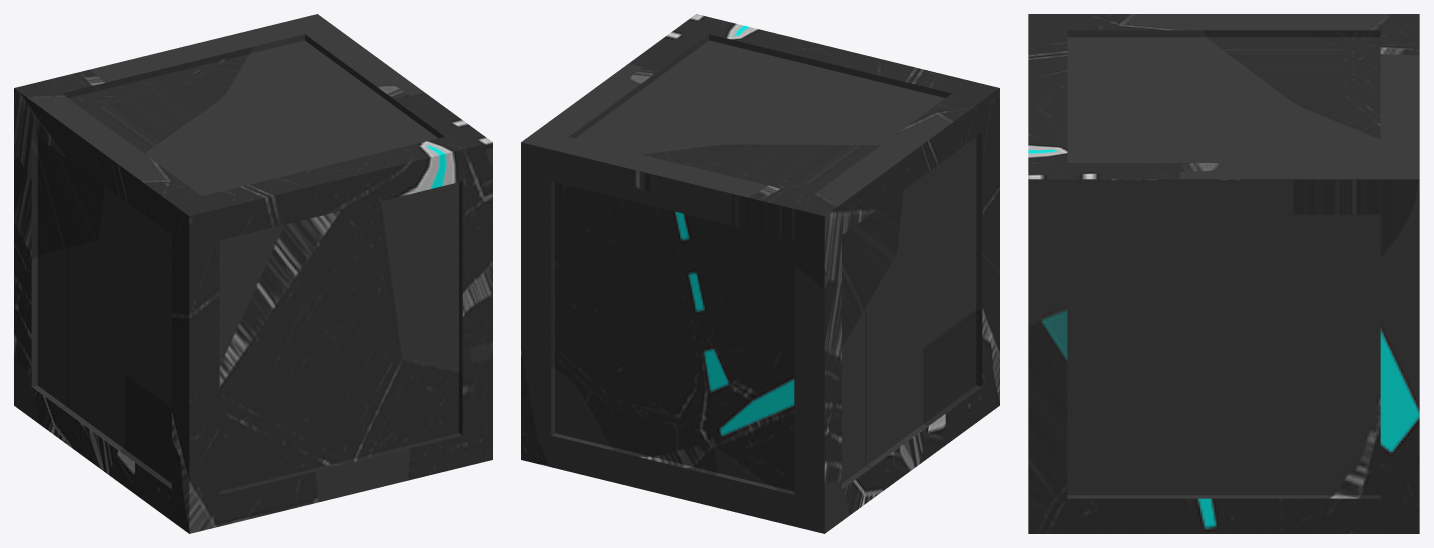
The model's file is Crate.fbx.
3 views of the same model, side by side, from view 1: azimuth 30°, elevation 25°; view 2: azimuth 150°, elevation 25°; view 3: azimuth 270°, elevation 25° (orthographic). The views are drawn at different scales.
Parts seen in each view (by area): view 1: Crate; view 2: Crate; view 3: Crate.
Part boxes in pixels (<box>): Crate: <box>14,14,492,533</box>; Crate: <box>521,14,999,533</box>; Crate: <box>1028,14,1419,533</box>.
Size of the model in its own units: 267 by 267 by 267.
